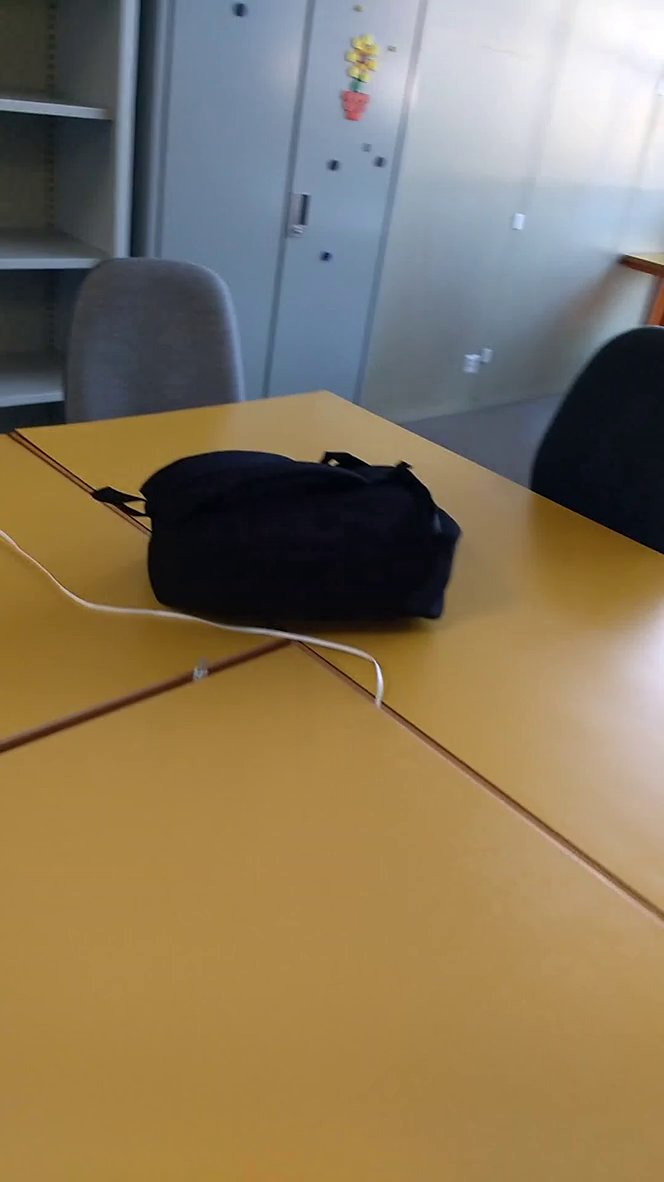bag: (84, 437, 472, 656)
chair: (53, 245, 269, 435)
